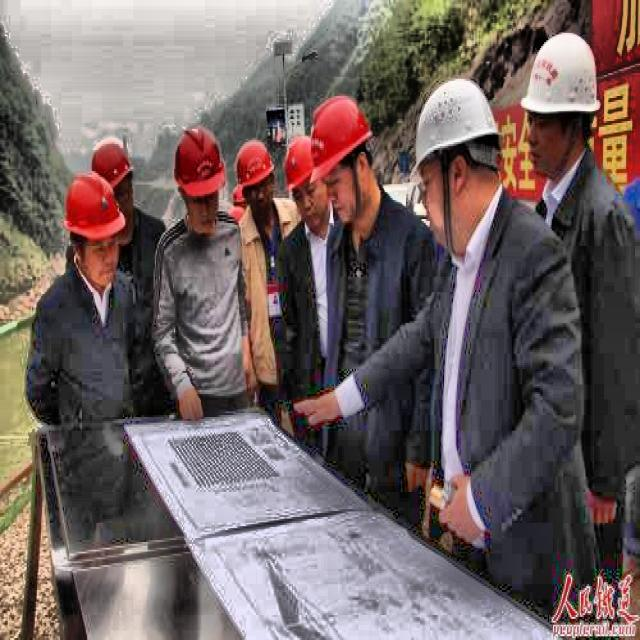helmet: (408, 75, 501, 240), (524, 21, 608, 183), (302, 86, 384, 230), (57, 164, 132, 288), (173, 119, 228, 233), (89, 131, 140, 211), (286, 134, 322, 225), (235, 136, 274, 210)
